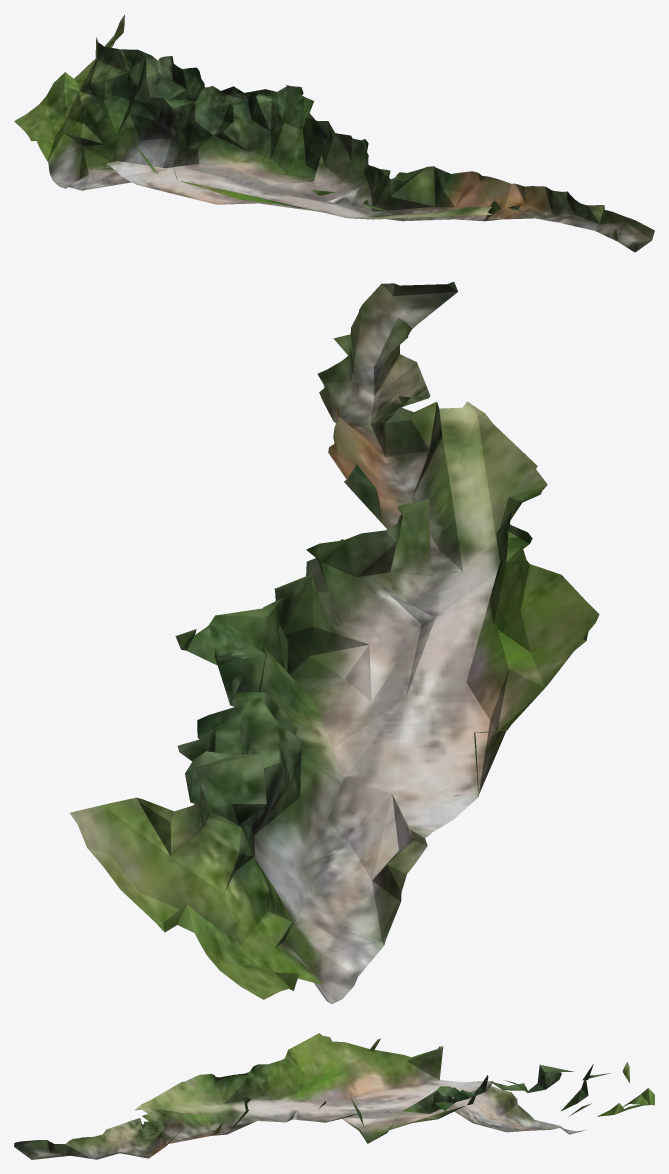
The picture shows the model from 3 angles, top to bottom: view 1: azimuth 30°, elevation 25°; view 2: azimuth 150°, elevation 25°; view 3: azimuth 270°, elevation 25°; orthographic projection. The views are drawn at different scales.
Bounding box in the file's own units: 89.43 × 33.44 × 198.
1 material, 1 textured.
